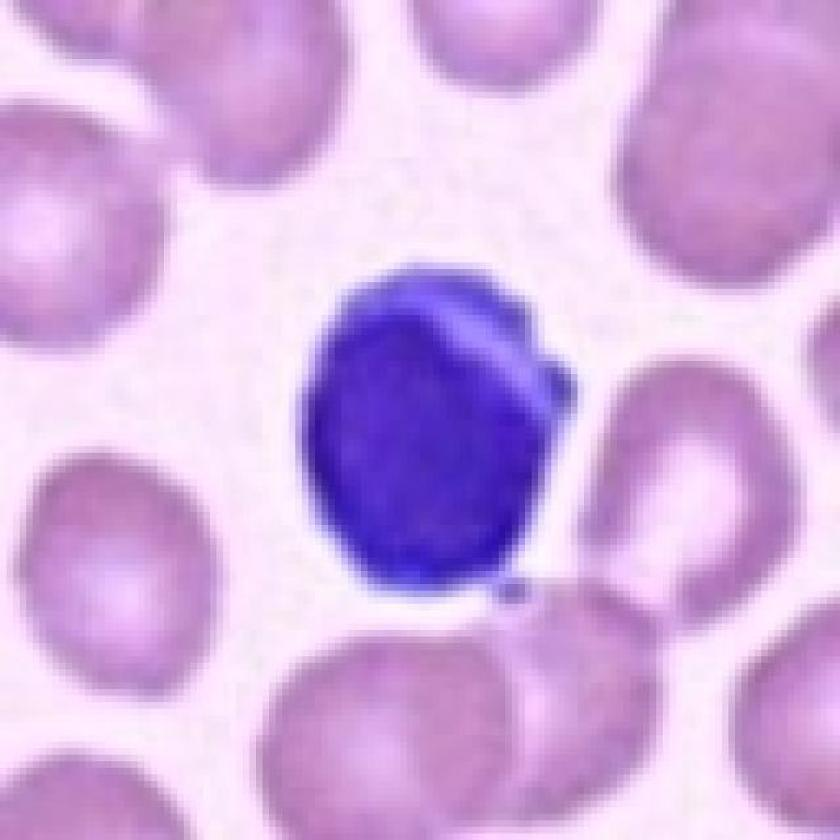lymphocyte: (293, 250, 583, 605)
